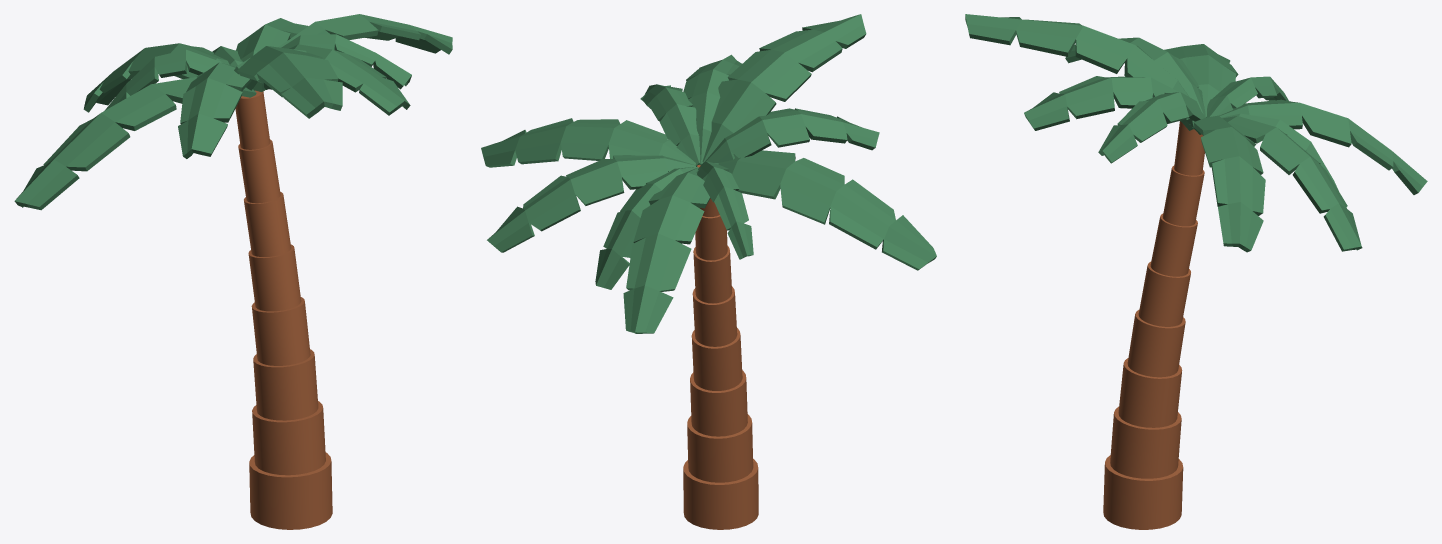
File: palmtree.fbx
3 views of the same model, side by side, from view 1: azimuth 30°, elevation 25°; view 2: azimuth 150°, elevation 25°; view 3: azimuth 270°, elevation 25° (orthographic). The views are drawn at different scales.
Parts seen in each view (by area): view 1: Leaves, Cylinder; view 2: Leaves, Cylinder; view 3: Leaves, Cylinder.
Part boxes in pixels (x1,y1,x2,y2): Leaves: (14, 14, 452, 210); Cylinder: (235, 90, 332, 529); Leaves: (481, 14, 936, 333); Cylinder: (683, 165, 758, 529); Leaves: (965, 14, 1427, 252); Cylinder: (1103, 121, 1204, 529).
Bounding box in the file's own units: 1315 × 1326 × 1177.
